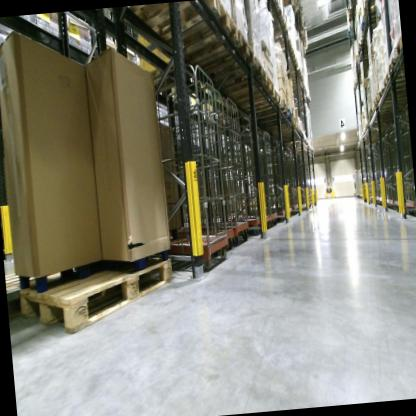pallet: (15, 239, 183, 334), (134, 0, 243, 76), (130, 0, 220, 49), (190, 31, 257, 83), (209, 57, 268, 99), (228, 76, 277, 107), (238, 91, 284, 119), (250, 99, 289, 125), (263, 107, 295, 132), (380, 70, 406, 92), (385, 47, 404, 77), (373, 93, 408, 108), (360, 14, 385, 35), (376, 84, 406, 100), (394, 33, 404, 61), (347, 6, 358, 22)
